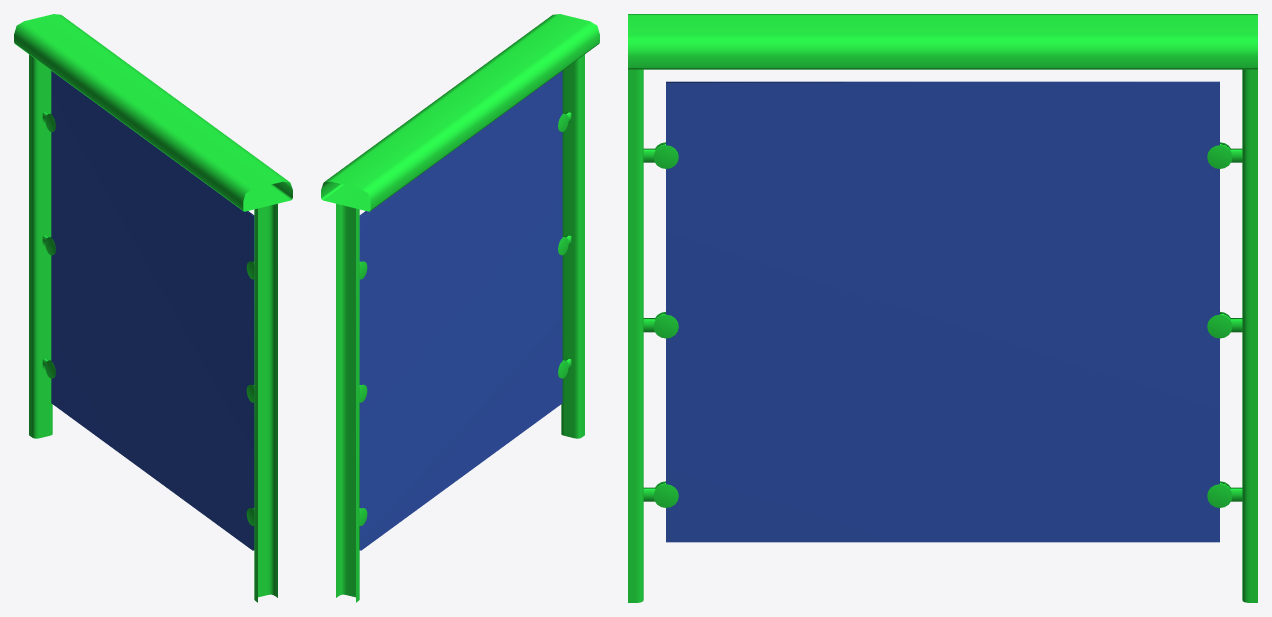
Rendered from railing_single_pane_low.fbx.
3 views of the same model, side by side, from view 1: azimuth 30°, elevation 25°; view 2: azimuth 150°, elevation 25°; view 3: azimuth 270°, elevation 25° (orthographic). The views are drawn at different scales.
Visible parts, largest first — view 1: Box023; view 2: Box023; view 3: Box023.
Part boxes in pixels (left/top/right/bottom): Box023: left=14, top=14, right=292, bottom=602; Box023: left=321, top=14, right=599, bottom=602; Box023: left=628, top=14, right=1257, bottom=602.
Size of the model in its own units: 12.5 by 100 by 100.
